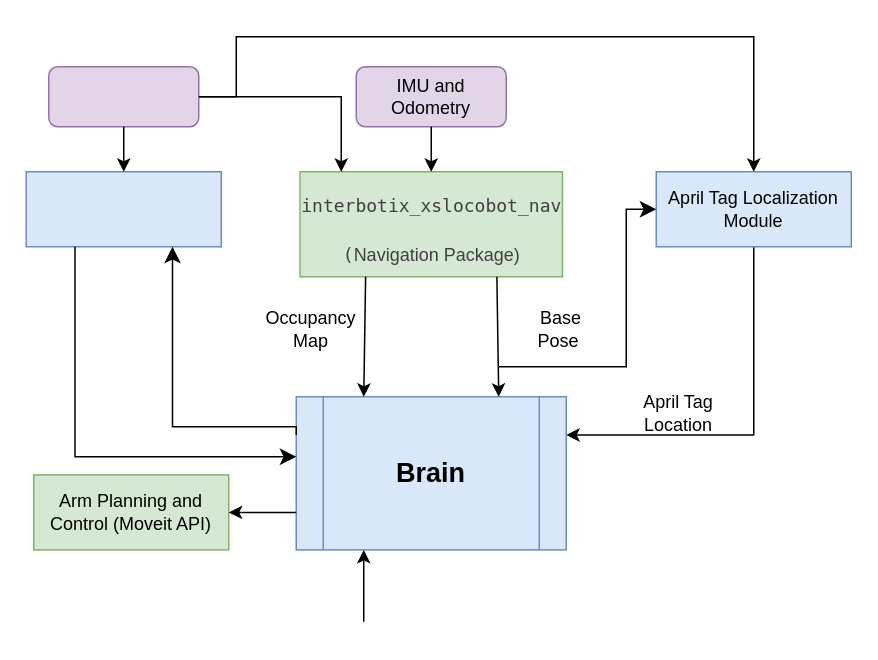
Image size: 878x660. Some labels were removed from this diagram. The centre of each missing label's shape, as x and y in pixels:
Camera: point 123,96
Perception Module: point 123,208
